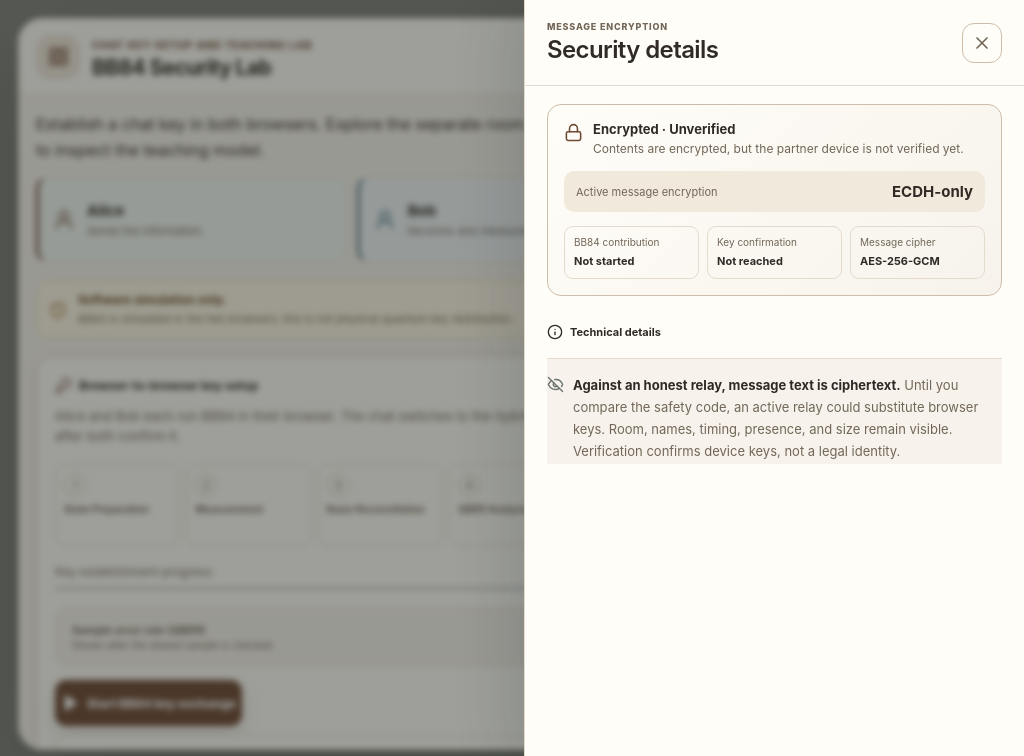
Scenario: shared runtime key status in Security Details and BB84 Security Lab › shows ECDH-only and BB84 not started in both surfaces
The image size is (1024, 756).
Click the heading "Technical details". click: (604, 332)
box: [547,324,661,340]
(page scrolled)
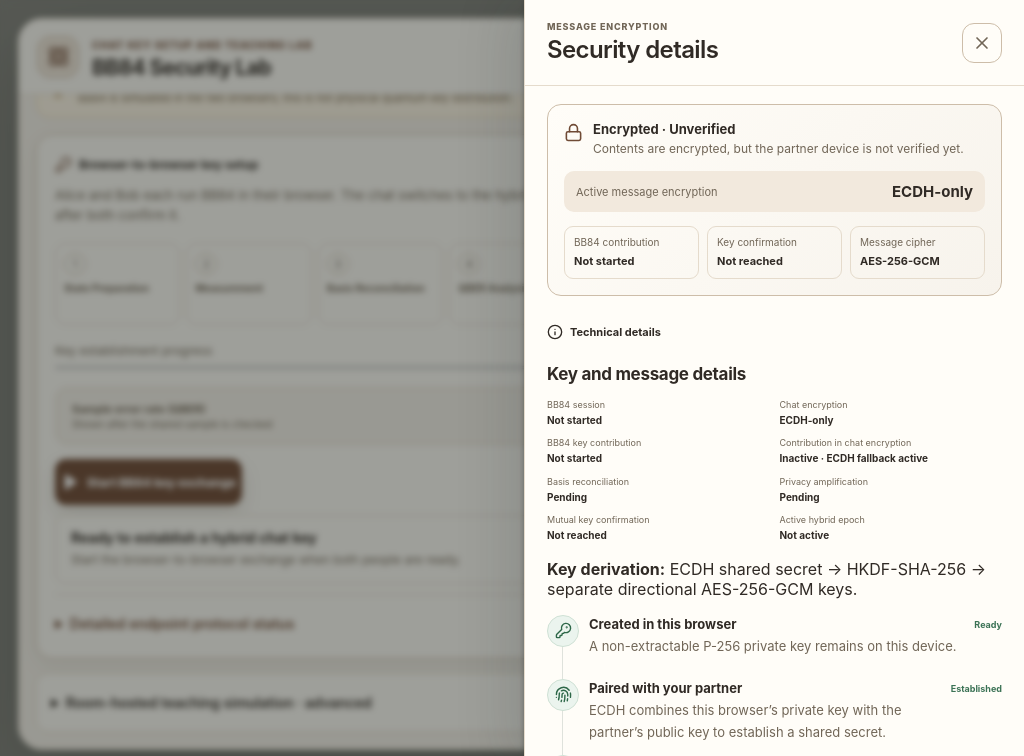
Check: the text "ECDH-only chat active" is shown, box [839,153,969,177]
Check: the text "ECDH shared secret → HKDF-SHA-256 → separate directional AES-256-GCM keys" is shown, box [547,559,986,599]
Check: the heading "Room-hosted teaching simulation · advanced" is shown, box [66,694,372,711]
